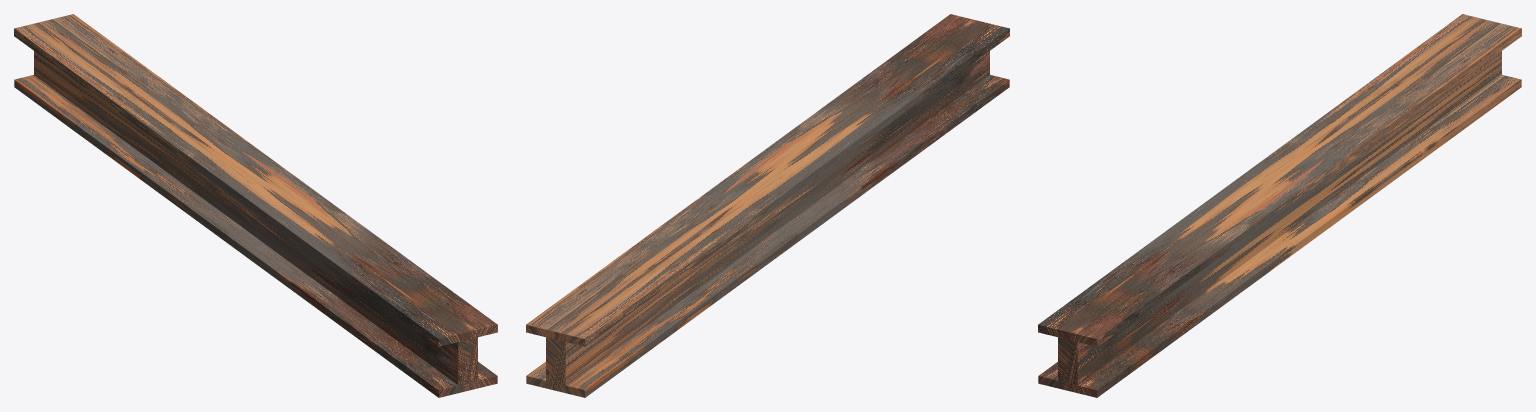
File: IBeam.FBX
3 renders of one model, left to right at view 1: azimuth 30°, elevation 25°; view 2: azimuth 150°, elevation 25°; view 3: azimuth 330°, elevation 25°, orthographic.
Parts seen in each view (by area): view 1: Ibeam; view 2: Ibeam; view 3: Ibeam.
Boxes of the visible parts, left/top/right/bottom form: Ibeam: left=14, top=14, right=497, bottom=397; Ibeam: left=526, top=14, right=1009, bottom=397; Ibeam: left=1038, top=14, right=1521, bottom=397.
Bounding box in the file's own units: 0.202 × 0.1911 × 2.5.
1 material, 1 textured.
